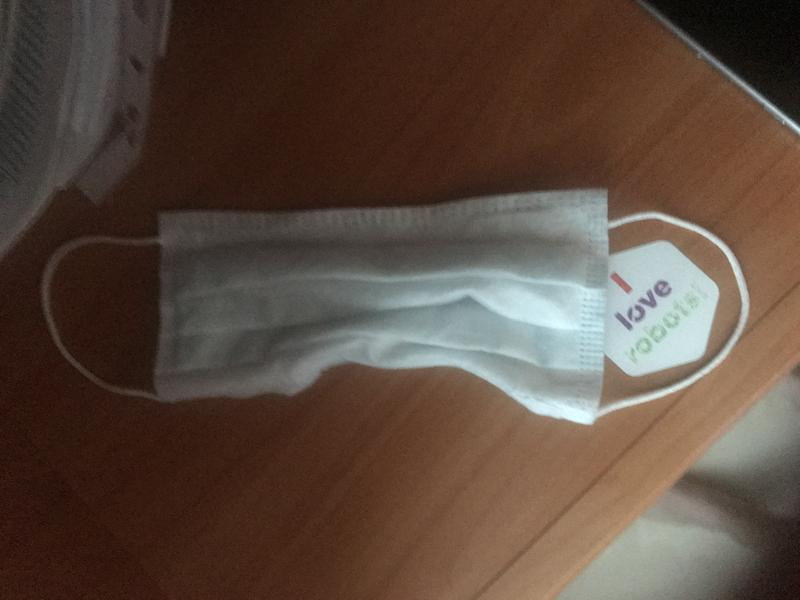medical_mask: (39, 187, 753, 427)
